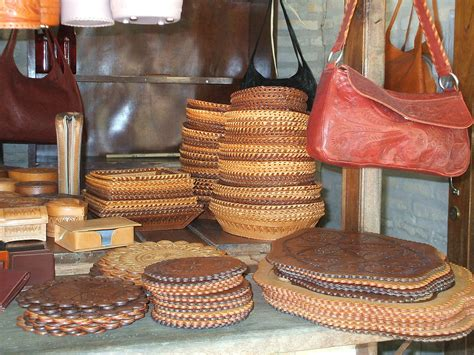cuero: (313, 2, 474, 180)
